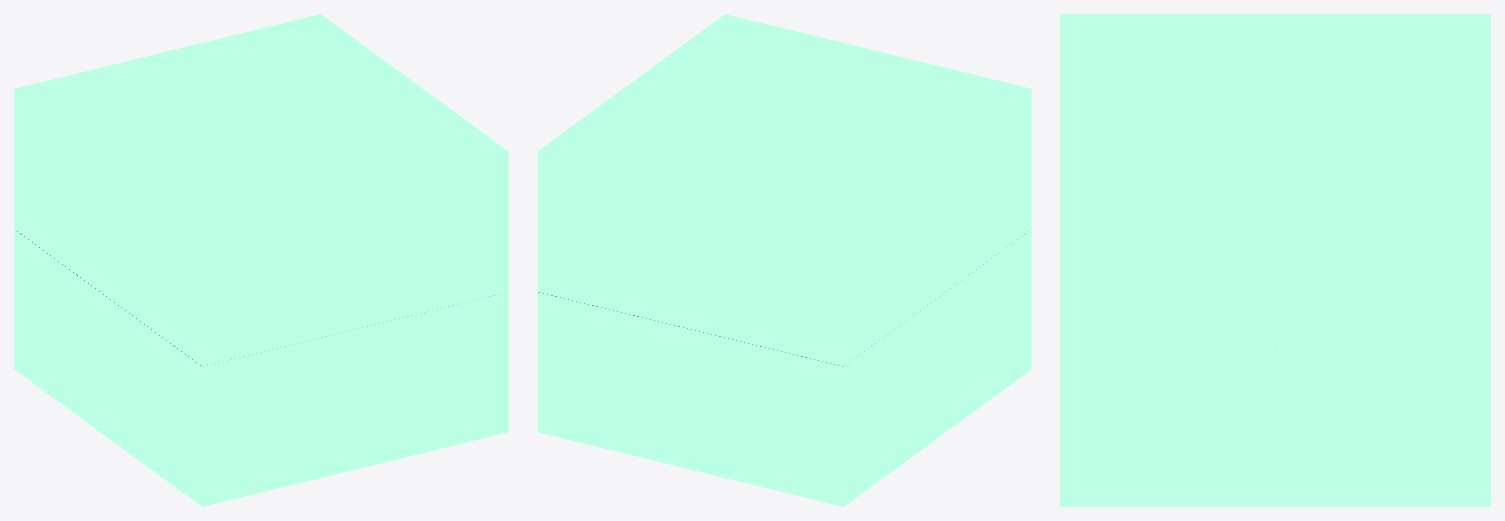
The model's file is structure_bull_hq.glb.
3 renders of one model, left to right at view 1: azimuth 30°, elevation 25°; view 2: azimuth 150°, elevation 25°; view 3: azimuth 270°, elevation 25°, orthographic. The views are drawn at different scales.
Parts seen in each view (by area): view 1: root; view 2: root; view 3: root.
Boxes of the visible parts, x1,y1,x2,y2 form: root: (14, 14, 508, 506); root: (537, 14, 1031, 506); root: (1060, 14, 1490, 506).
Size of the model in its own units: 3.2 by 2.8 by 3.4.
